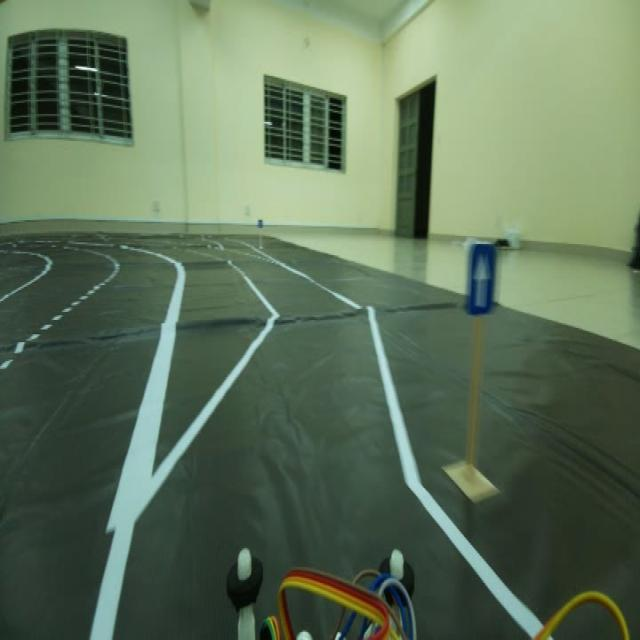onewayroad: (460, 240, 500, 318)
